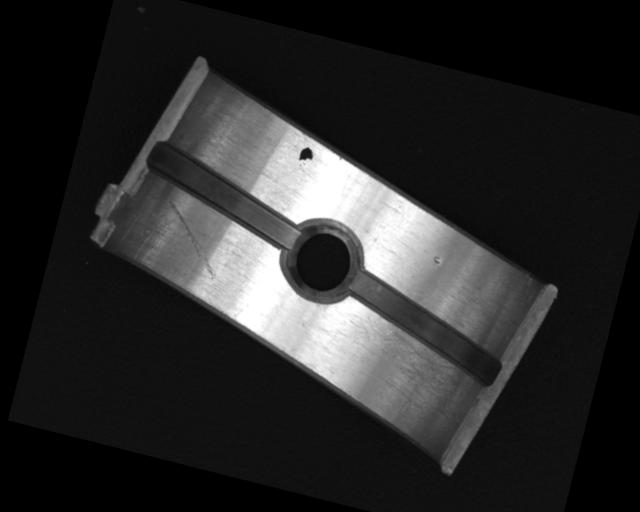blot: (296, 144, 316, 169)
bruise: (431, 254, 443, 266)
gap: (334, 267, 513, 386), (134, 138, 312, 251)
hole: (278, 211, 368, 306)
nick: (152, 200, 231, 281)
scratch: (327, 305, 482, 426)
